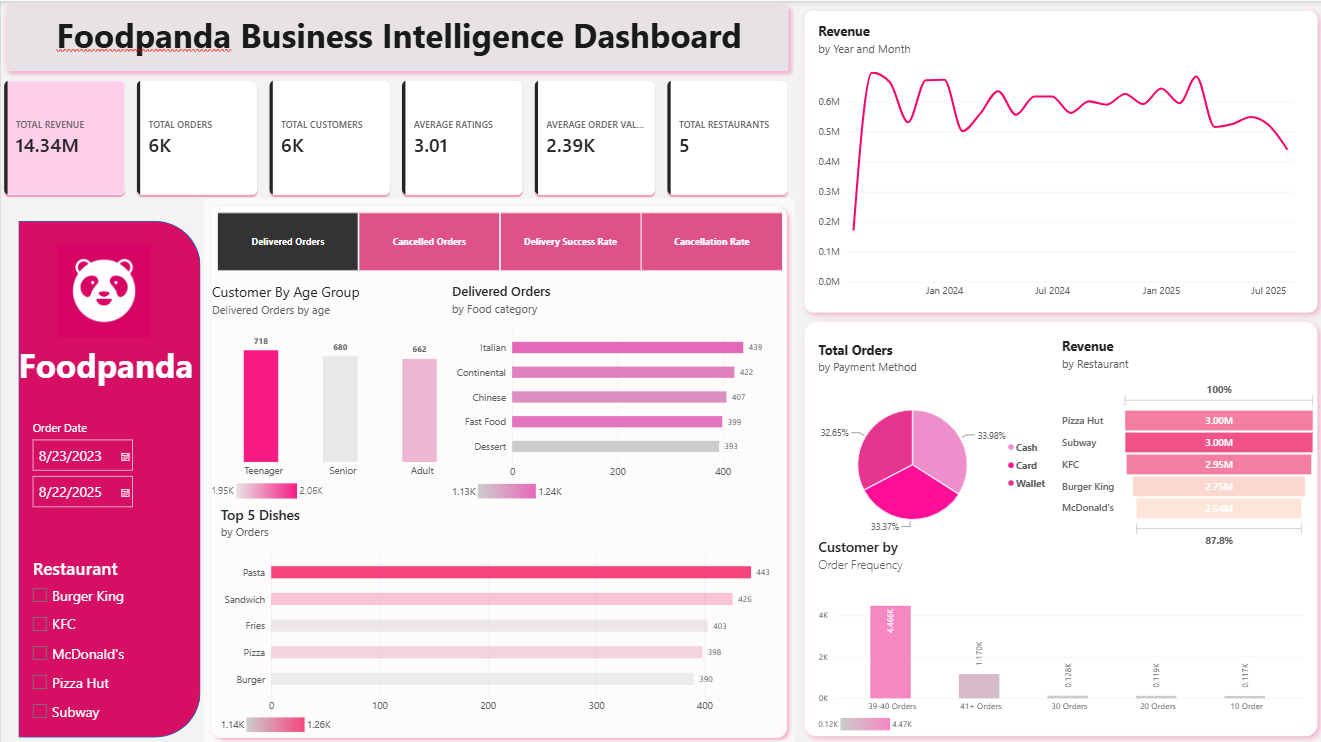

Layout of this report page (visuals, bound fields, positions):
{"tool":"powerbi","page":{"name":"Page 1","canvas":[1920,1080],"ordinal":0},"visuals":[{"type":"shape","box":[0,0,1149.1,110.4],"z":0},{"type":"shape","box":[24.5,318.7,263.5,747.7],"z":1000},{"type":"shape","box":[1149.1,450.6,770.9,628],"z":2000},{"type":"textbox","box":[25.3,494,276.9,74.2],"z":3000},{"type":"image","box":[81.7,341.2,136,154],"z":4000},{"type":"clusteredColumnChart","title":"Customer by","fields":{"Category":["Foodpanda.Order Frequency Group"],"Y":["Count(Foodpanda.customer_id)"]},"box":[1166.5,762,735.5,316.7],"z":5000},{"type":"shape","box":[293.2,285.9,856.3,792.5],"z":6000},{"type":"slicer","title":"Filter Orders by Customer Age Group","fields":{"Values":["Metric.Metric"]},"box":[292.3,304.6,856.3,88.5],"z":7000},{"type":"columnChart","title":"Customer By Age Group","fields":{"Category":["Foodpanda.age"],"Y":["Foodpanda.Delivered Orders"]},"box":[289.5,392.7,410.8,349.3],"z":8000},{"type":"clusteredBarChart","title":"Delivered Orders","fields":{"Category":["Foodpanda.category"],"Y":["Foodpanda.Delivered Orders"]},"box":[637,392.7,512.1,349.3],"z":9000},{"type":"barChart","title":"Top 5 Dishes","fields":{"Category":["Foodpanda.dish_name"],"Y":["Foodpanda.Delivered Orders"]},"box":[302.2,714.8,839.7,365.6],"z":10000},{"type":"shape","box":[1149.1,0,770.9,465.1],"z":11000},{"type":"pieChart","title":"Total Orders","fields":{"Category":["Foodpanda.payment_method"],"Y":["Foodpanda.Total Orders"]},"box":[1166.5,478.1,369.8,324.8],"z":12000},{"type":"funnel","title":"Revenue","fields":{"Category":["Foodpanda.restaurant_name"],"Y":["Foodpanda.Total_Sales"]},"box":[1520.1,472.3,399.9,334.8],"z":13000},{"type":"lineChart","title":"Revenue","fields":{"Category":["Foodpanda.order_date.Variation.Date Hierarchy.Year","Foodpanda.order_date.Variation.Date Hierarchy.Month"],"Y":["Foodpanda.Total_Sales"]},"box":[1167.2,16.3,736.5,434.3],"z":14000},{"type":"cardVisual","fields":{"Data":["Foodpanda.Total_Sales","Foodpanda.Total Orders","Foodpanda.Total Customers","Foodpanda.Average Rating","Foodpanda.Average Order Value","Foodpanda.Total Restaurants"]},"box":[0,110.4,1149.1,175.5],"z":15000},{"type":"slicer","fields":{"Values":["Foodpanda.order_date"]},"box":[38.8,606.8,179.2,181],"z":16000},{"type":"slicer","fields":{"Values":["Foodpanda.restaurant_name"]},"box":[38.8,802.9,237.1,251.5],"z":17000},{"type":"textbox","box":[25.3,16.3,1102.1,79.6],"z":18001}]}

Visuals, with their boxes in screenshot pixels (x1, y1, x2, y2), scaled from the page's 1920x1080 canvas onto the 1321x742 screenshot:
shape: [left=0, top=0, right=791, bottom=76]
shape: [left=17, top=219, right=198, bottom=733]
shape: [left=791, top=310, right=1320, bottom=741]
textbox: [left=17, top=339, right=208, bottom=390]
image: [left=56, top=234, right=150, bottom=340]
"Customer by" clusteredColumnChart: [left=803, top=524, right=1309, bottom=741]
shape: [left=202, top=196, right=791, bottom=741]
"Filter Orders by Customer Age Group" slicer: [left=201, top=209, right=790, bottom=270]
"Customer By Age Group" columnChart: [left=199, top=270, right=482, bottom=510]
"Delivered Orders" clusteredBarChart: [left=438, top=270, right=791, bottom=510]
"Top 5 Dishes" barChart: [left=208, top=491, right=786, bottom=741]
shape: [left=791, top=0, right=1320, bottom=320]
"Total Orders" pieChart: [left=803, top=328, right=1057, bottom=552]
"Revenue" funnel: [left=1046, top=324, right=1320, bottom=555]
"Revenue" lineChart: [left=803, top=11, right=1310, bottom=310]
cardVisual - Foodpanda.Total_Sales x Foodpanda.Total Orders: [left=0, top=76, right=791, bottom=196]
slicer - Foodpanda.order_date: [left=27, top=417, right=150, bottom=541]
slicer - Foodpanda.restaurant_name: [left=27, top=552, right=190, bottom=724]
textbox: [left=17, top=11, right=776, bottom=66]
